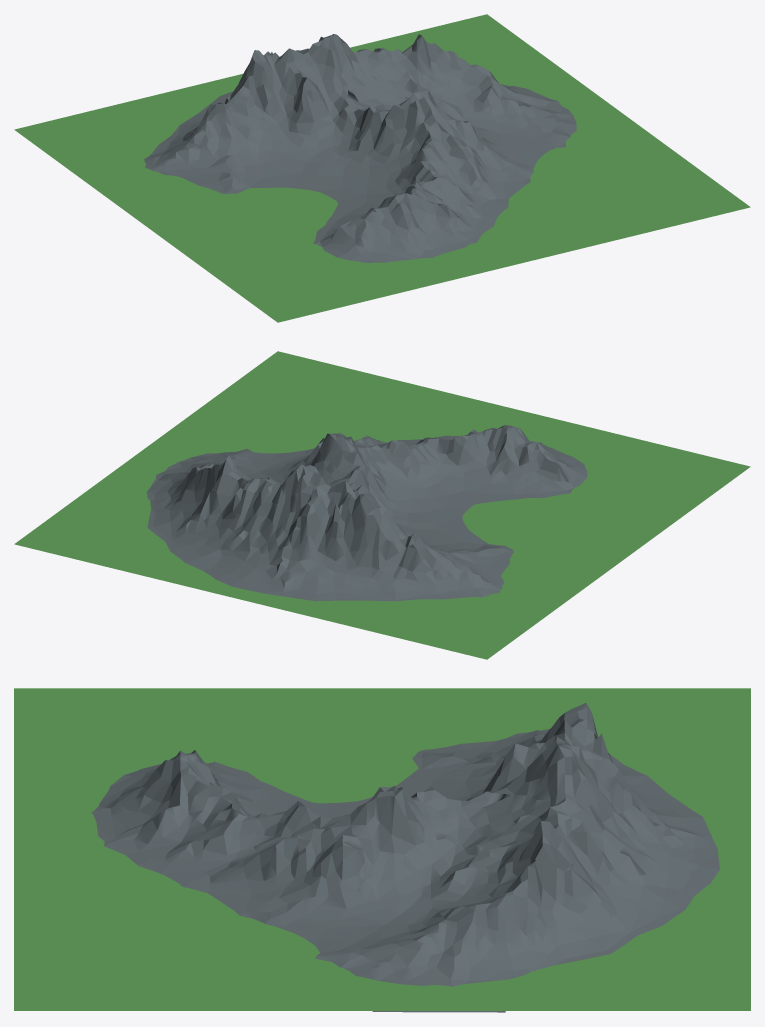
Rendered from Landscape_01.fbx.
3 renders of one model, top to bottom at view 1: azimuth 30°, elevation 25°; view 2: azimuth 150°, elevation 25°; view 3: azimuth 270°, elevation 25°, orthographic. The views are drawn at different scales.
Visible parts, largest first — view 1: Landscape_01; view 2: Landscape_01; view 3: Landscape_01.
Part boxes in pixels (x1,y1,x2,y2): Landscape_01: [14, 14, 750, 322]; Landscape_01: [14, 351, 750, 659]; Landscape_01: [14, 688, 750, 1012].
Size of the model in its own units: 15028 by 2624 by 14515.
1 material, 1 textured.
